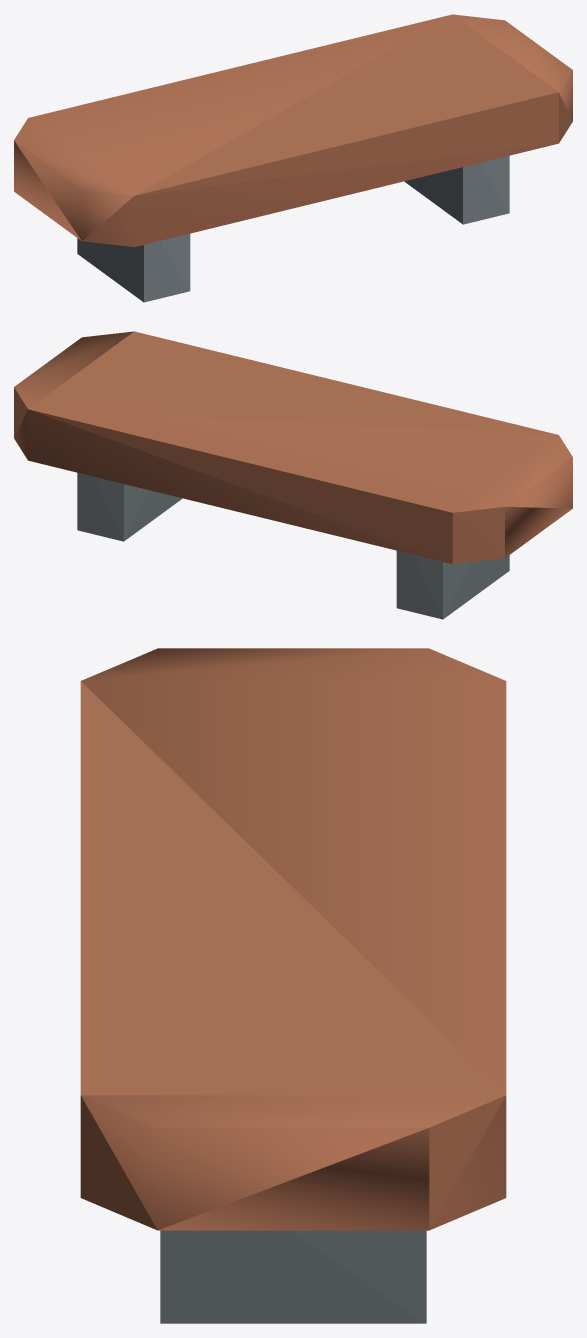
File: bench.glb
3 views of the same model, one above another, from view 1: azimuth 30°, elevation 25°; view 2: azimuth 150°, elevation 25°; view 3: azimuth 270°, elevation 25° (orthographic). The views are drawn at different scales.
Parts seen in each view (by area): view 1: bench; view 2: bench; view 3: bench.
Part boxes in pixels (bbox=[...]): bench: bbox=[14, 14, 572, 302]; bench: bbox=[14, 331, 572, 619]; bench: bbox=[80, 648, 506, 1323].
Bounding box in the file's own units: 1.6 × 0.4 × 0.6.
